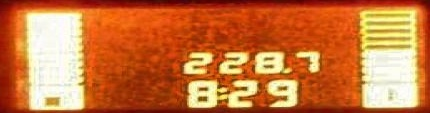-: (280, 66, 291, 73)
2: (225, 79, 256, 108), (215, 50, 248, 73), (180, 51, 211, 74)
7: (293, 50, 320, 72)
8: (185, 79, 216, 108), (251, 50, 283, 73)
9: (265, 79, 296, 107)
X: (215, 86, 226, 99)
